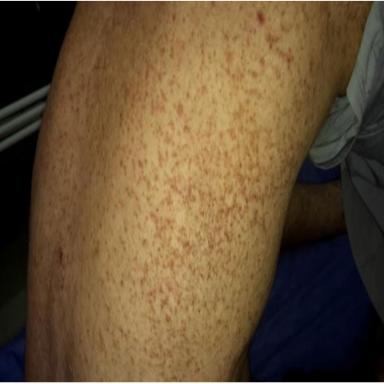Darier_s-Disease: (27, 0, 345, 380)
